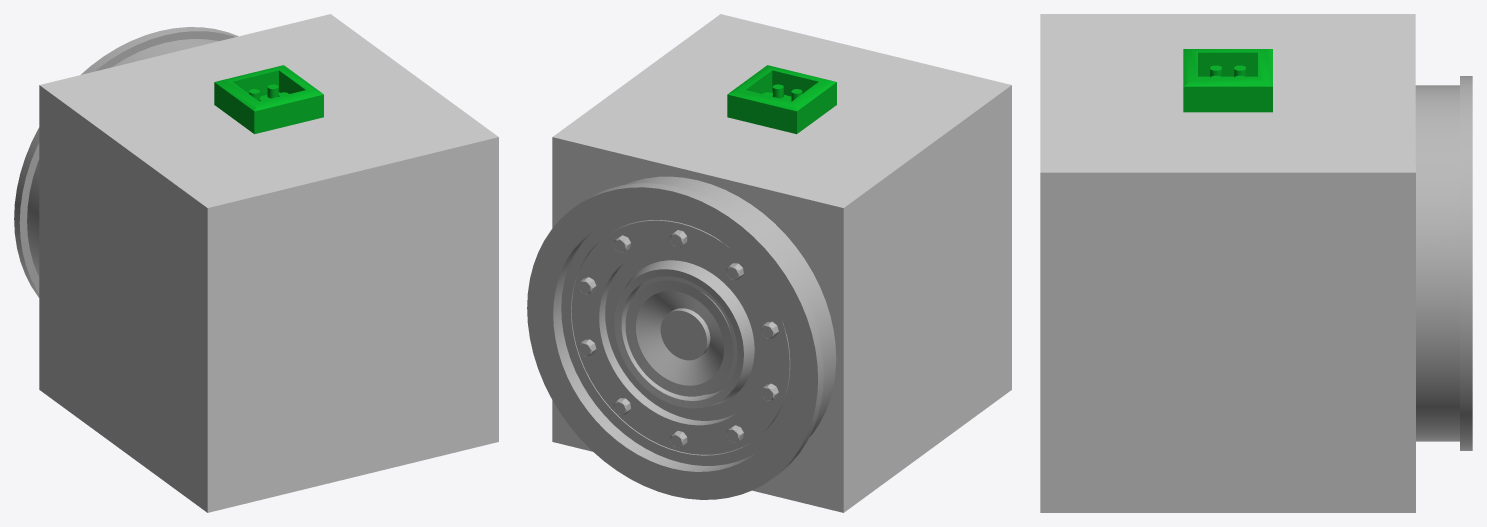
Rendered from InfiniteFluid.gltf.
3 renders of one model, left to right at view 1: azimuth 30°, elevation 25°; view 2: azimuth 150°, elevation 25°; view 3: azimuth 270°, elevation 25°, orthographic. The views are drawn at different scales.
Parts seen in each view (by area): view 1: Cube; view 2: Cube; view 3: Cube.
Part boxes in pixels (box(x1,y1,x2,y2)): Cube: box(14, 14, 498, 512); Cube: box(527, 14, 1011, 512); Cube: box(1040, 14, 1472, 512).
Size of the model in its own units: 0.25 by 0.2706 by 0.2878.
